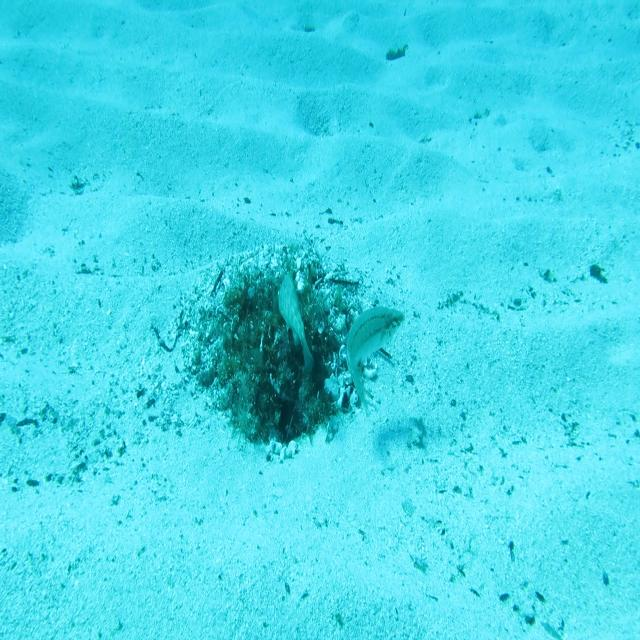NIP_CORE: (276, 270, 317, 380)
core_nest: (248, 292, 308, 327)
female: (344, 303, 406, 417)
nest: (164, 219, 379, 473)
vegetation: (385, 42, 409, 62)
